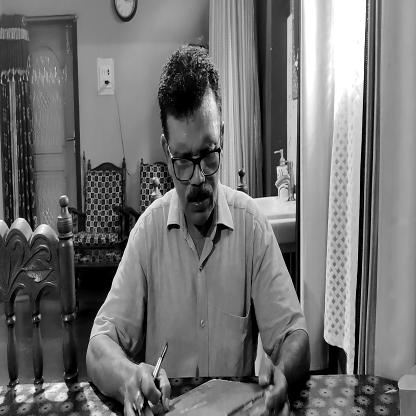Normal: (156, 48, 222, 223)
